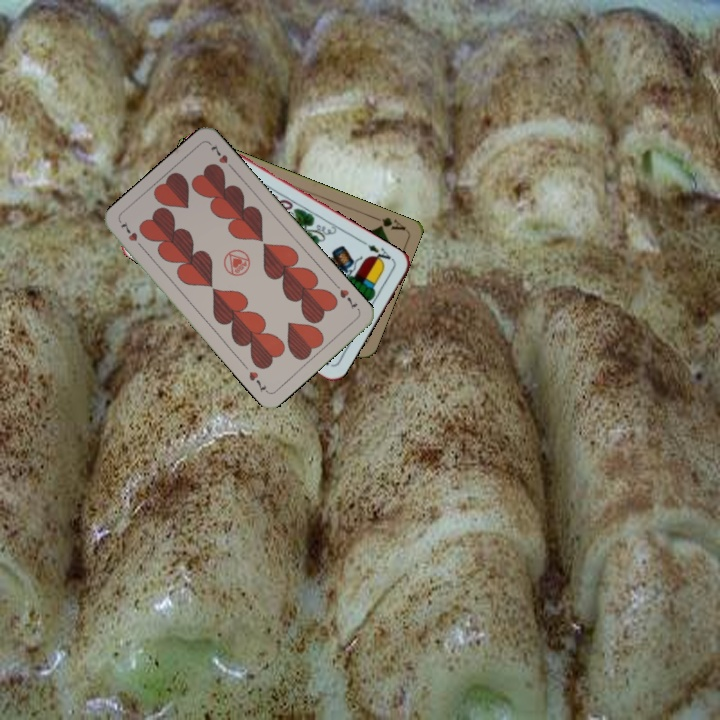EA: (364, 241, 396, 267)
GA: (368, 212, 407, 233)
H7: (117, 217, 147, 252), (331, 280, 360, 312)
